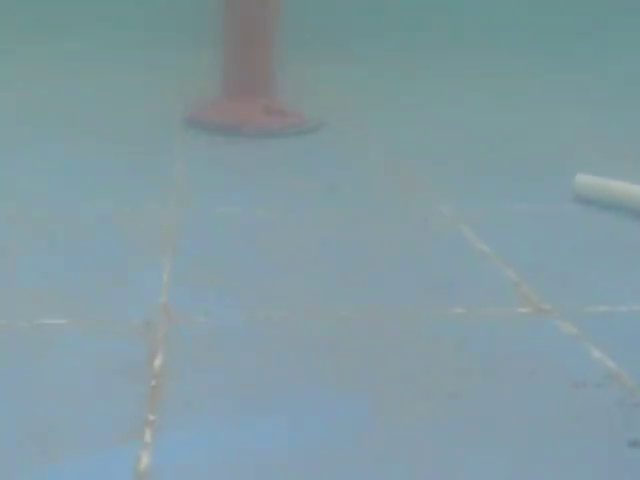flare: (182, 0, 324, 144)
